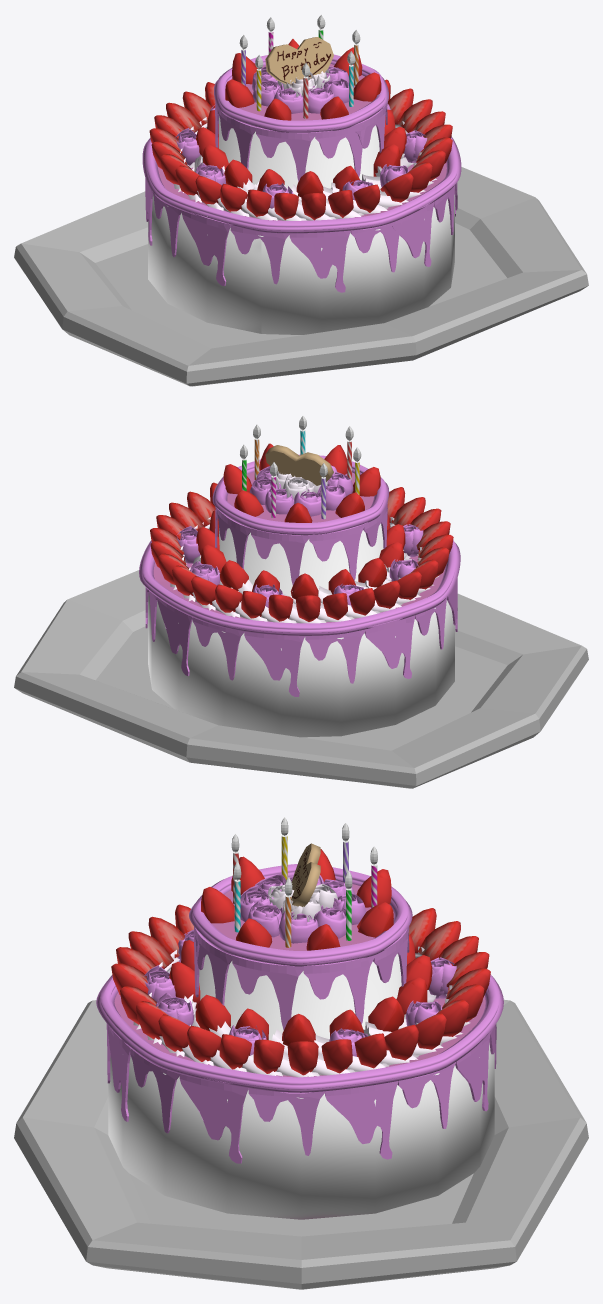
The model's file is Cake.fbx.
The picture shows the model from 3 angles, top to bottom: view 1: azimuth 30°, elevation 25°; view 2: azimuth 150°, elevation 25°; view 3: azimuth 270°, elevation 25°; orthographic projection. The views are drawn at different scales.
Parts seen in each view (by area): view 1: Tray, CakeBase, Strawberry1, DropCream3_2, Cream3, DropCream2, Strawberry2, DropCream3_1, Cream4, Strawberry3, Rose1, Rose2 (+6 smaller); view 2: Tray, CakeBase, Strawberry1, DropCream3_2, Cream3, Strawberry2, DropCream2, DropCream3_1, Strawberry3, Cream4, Rose1, Rose2 (+6 smaller); view 3: Tray, CakeBase, Strawberry1, DropCream3_2, Cream3, DropCream2, Strawberry2, DropCream3_1, Cream4, Strawberry3, Rose2, Rose1 (+6 smaller).
Part boxes in pixels (x1,y1,x2,y2): Tray: (14,167,588,386); CakeBase: (148,64,454,334); Strawberry1: (149,79,452,220); DropCream3_2: (145,178,457,292); Cream3: (142,136,461,233); DropCream2: (215,101,387,181); Strawberry2: (196,109,406,197); DropCream3_1: (152,185,454,284); Cream4: (214,54,388,132); Strawberry3: (225,39,381,120); Rose1: (176,104,427,208); Rose2: (252,66,348,113); Tray: (14,570,588,788); CakeBase: (148,470,454,737); Strawberry1: (150,482,453,621); DropCream3_2: (145,578,457,696); Cream3: (139,540,460,635); Strawberry2: (196,510,405,599); DropCream2: (215,502,387,585); DropCream3_1: (145,588,447,683); Strawberry3: (223,443,380,522); Cream4: (212,454,389,535); Rose1: (176,524,423,607); Rose2: (249,465,353,516); Tray: (14,999,588,1289); CakeBase: (108,877,494,1219); Strawberry1: (111,904,490,1075); DropCream3_2: (107,1024,490,1163); Cream3: (96,974,503,1093); DropCream2: (193,926,409,1030); Strawberry2: (169,935,432,1045); DropCream3_1: (106,1023,496,1155); Cream4: (189,864,412,966); Strawberry3: (201,849,393,950); Rose2: (240,874,365,943); Rose1: (143,929,456,1056).
Bounding box in the file's own units: 302 × 149 × 252.
